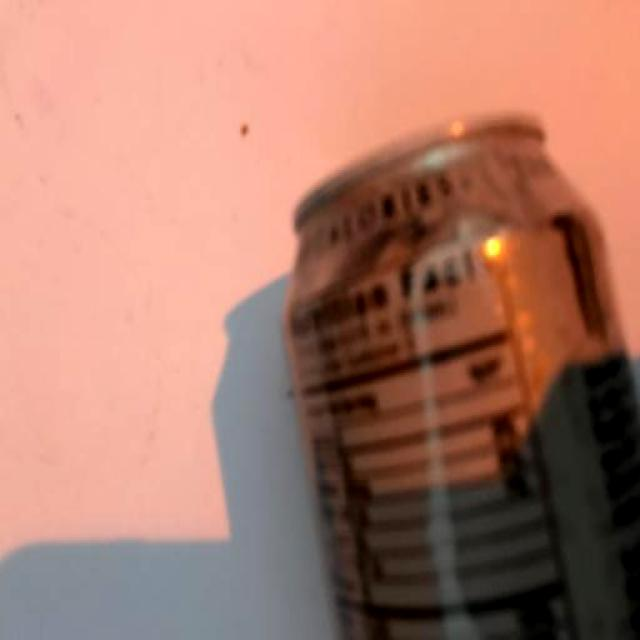Metal: (287, 122, 640, 640)
